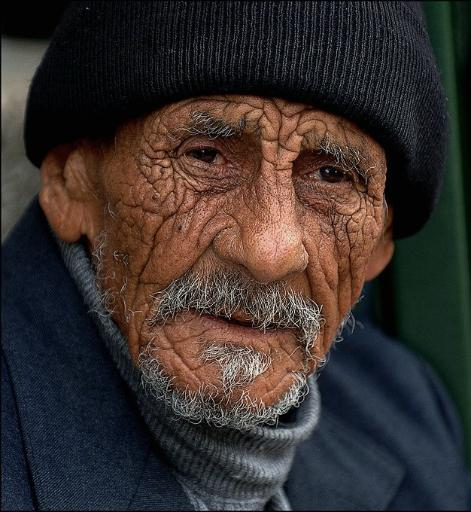left_eye: (309, 164, 359, 192)
right_eye: (179, 140, 240, 174)
right_lip_corner: (189, 297, 224, 332)
